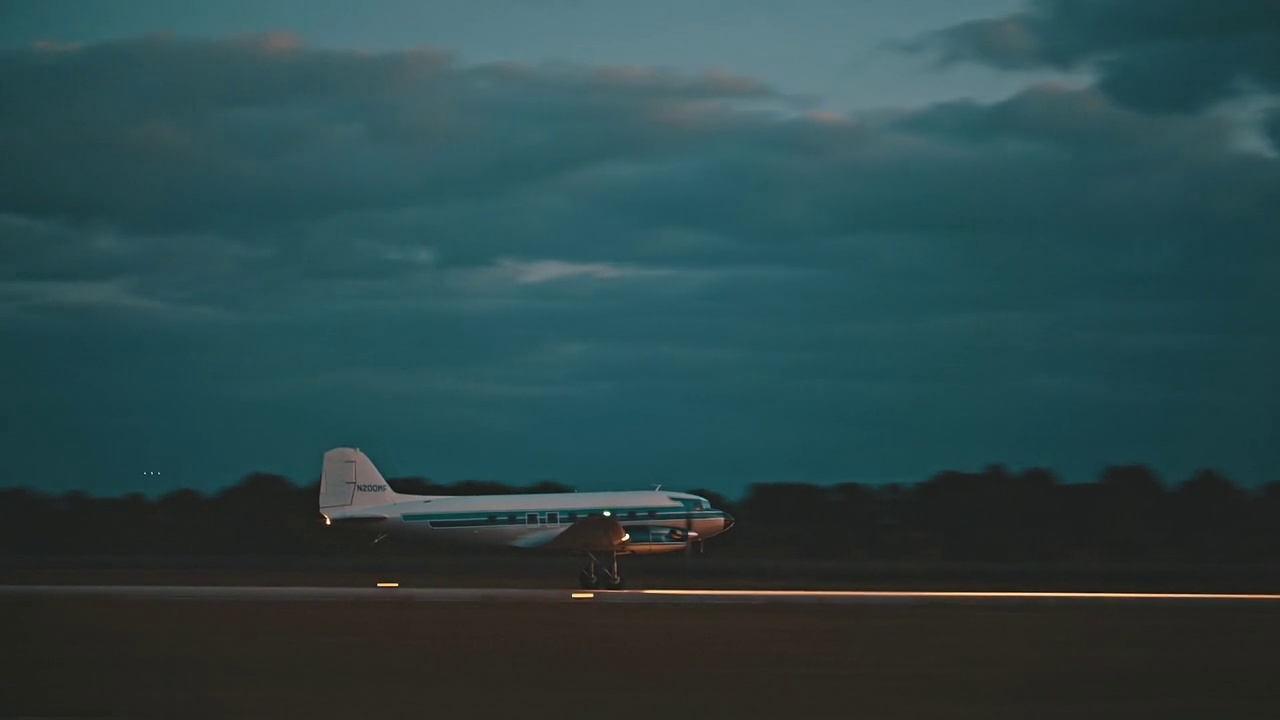plane: (316, 444, 735, 590)
